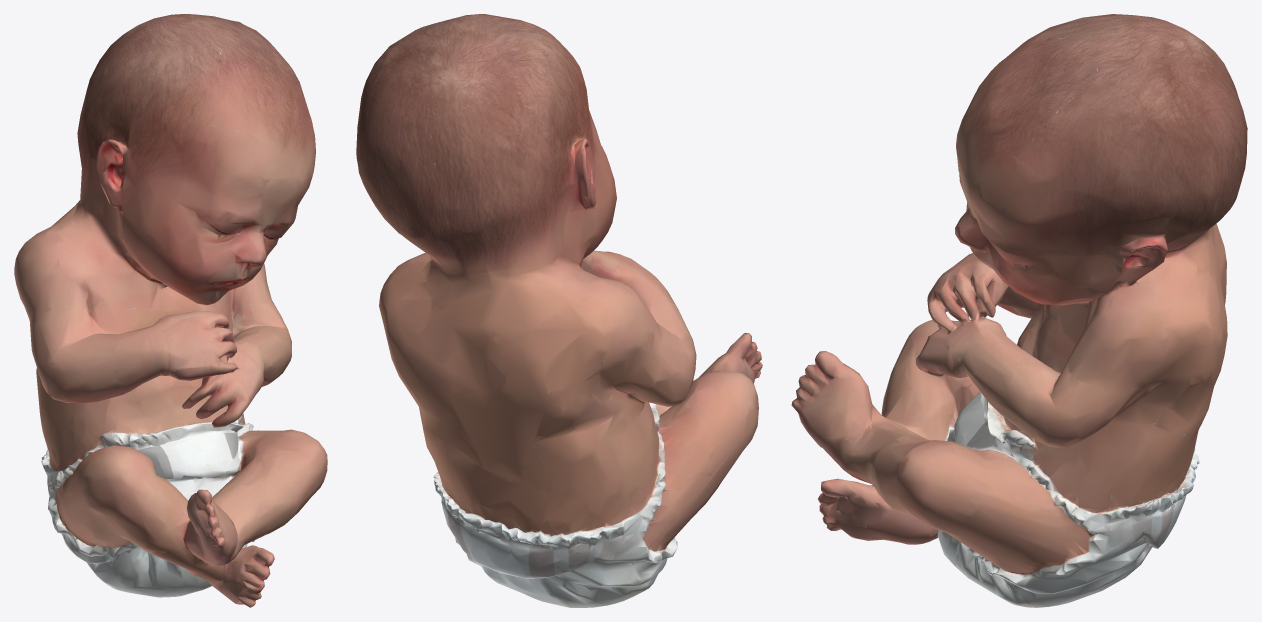
File: baby.glb
The picture shows the model from 3 angles, left to right: view 1: azimuth 30°, elevation 25°; view 2: azimuth 150°, elevation 25°; view 3: azimuth 270°, elevation 25°; orthographic projection. The views are drawn at different scales.
Visible parts, largest first — view 1: baby; view 2: baby; view 3: baby.
Boxes of the visible parts, x1=… form: baby: x1=14, y1=14, x2=327, y2=607; baby: x1=356, y1=14, x2=762, y2=607; baby: x1=791, y1=14, x2=1247, y2=607.
Size of the model in its own units: 0.1843 by 0.3393 by 0.2342.
Materials: 1 (1 with a texture image).
